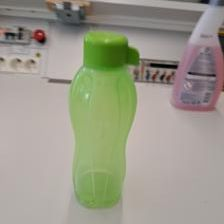bottle: (67, 26, 143, 210)
